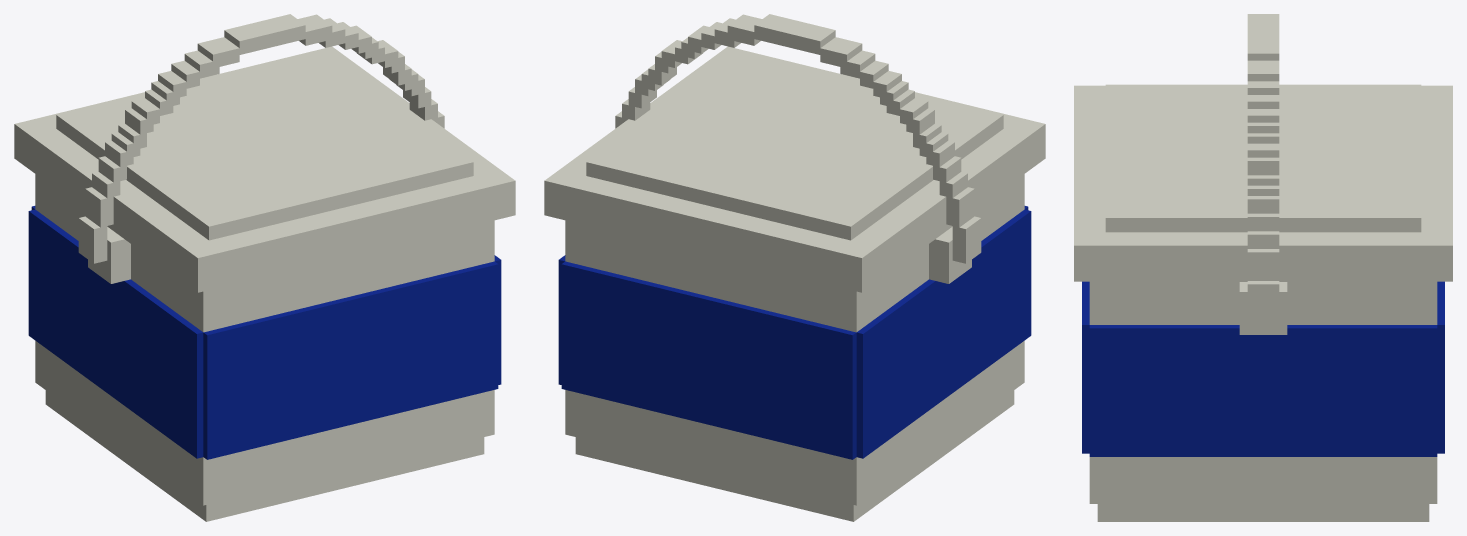
File: plastic_bucket.glb
3 views of the same model, side by side, from view 1: azimuth 30°, elevation 25°; view 2: azimuth 150°, elevation 25°; view 3: azimuth 270°, elevation 25° (orthographic). The views are drawn at different scales.
Visible parts, largest first — view 1: plastic_bucket:compound; view 2: plastic_bucket:compound; view 3: plastic_bucket:compound.
Part boxes in pixels (x1,y1,x2,y2): plastic_bucket:compound: (14,14,515,521); plastic_bucket:compound: (544,14,1045,521); plastic_bucket:compound: (1074,14,1452,521).
Size of the model in its own units: 0.216 by 0.232 by 0.192.
